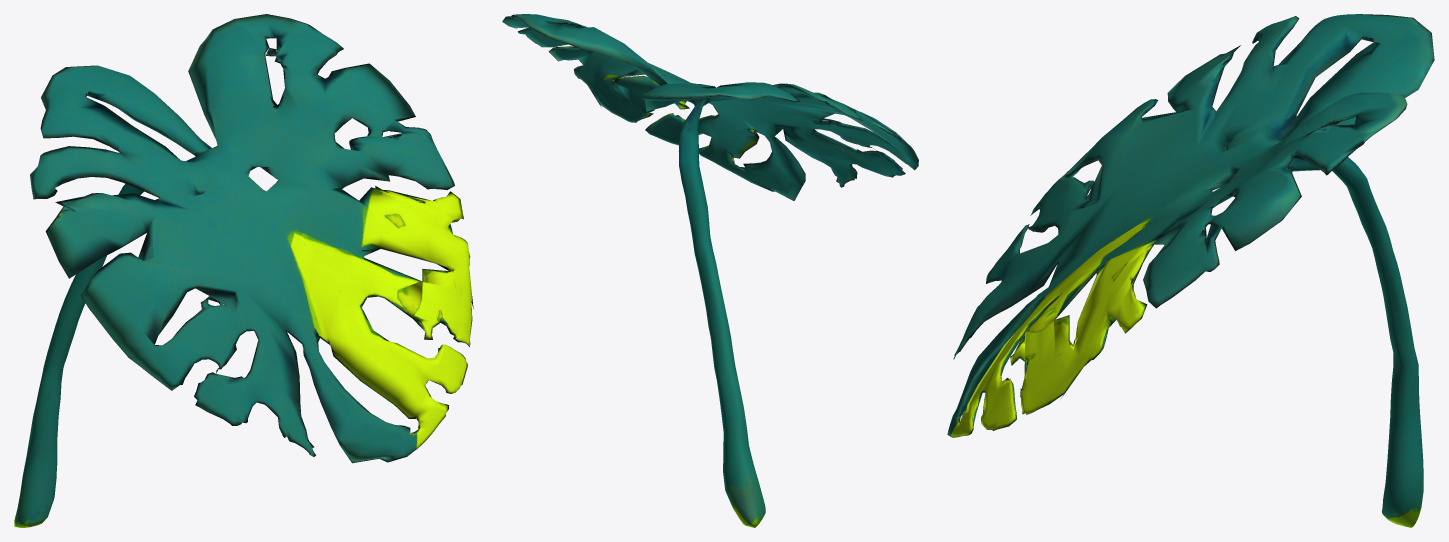
Rendered from mon_green_lemonpatch_v1.glb.
3 renders of one model, left to right at view 1: azimuth 30°, elevation 25°; view 2: azimuth 150°, elevation 25°; view 3: azimuth 270°, elevation 25°, orthographic. The views are drawn at different scales.
Parts seen in each view (by area): view 1: world; view 2: world; view 3: world.
Part boxes in pixels (x1=…): world: x1=14, y1=14, x2=473, y2=527; world: x1=502, y1=14, x2=918, y2=527; world: x1=947, y1=14, x2=1434, y2=527.
Size of the model in its own units: 1.75 by 2 by 1.62.
1 material, 1 textured.
